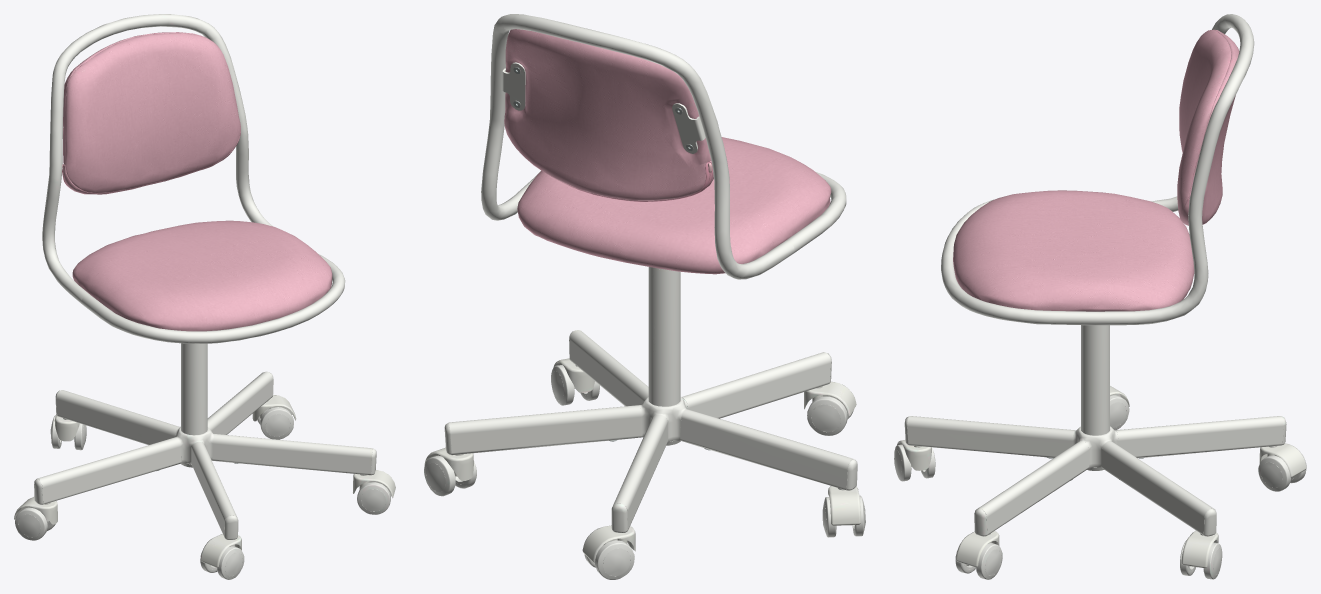
Rendered from ORFJALL.glb.
3 views of the same model, side by side, from view 1: azimuth 30°, elevation 25°; view 2: azimuth 150°, elevation 25°; view 3: azimuth 270°, elevation 25° (orthographic). The views are drawn at different scales.
Visible parts, largest first — view 1: ÖRFJÄLL; view 2: ÖRFJÄLL; view 3: ÖRFJÄLL.
Boxes of the visible parts, left/top/right/bottom form: ÖRFJÄLL: left=14, top=14, right=395, bottom=579; ÖRFJÄLL: left=424, top=14, right=865, bottom=579; ÖRFJÄLL: left=894, top=14, right=1306, bottom=579.
Bounding box in the file's own units: 0.5562 × 0.7145 × 0.5694.
1 material, 1 textured.
